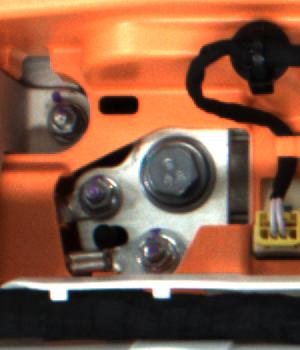screw_s: (138, 228, 181, 271), (76, 171, 119, 212), (46, 100, 84, 140)
